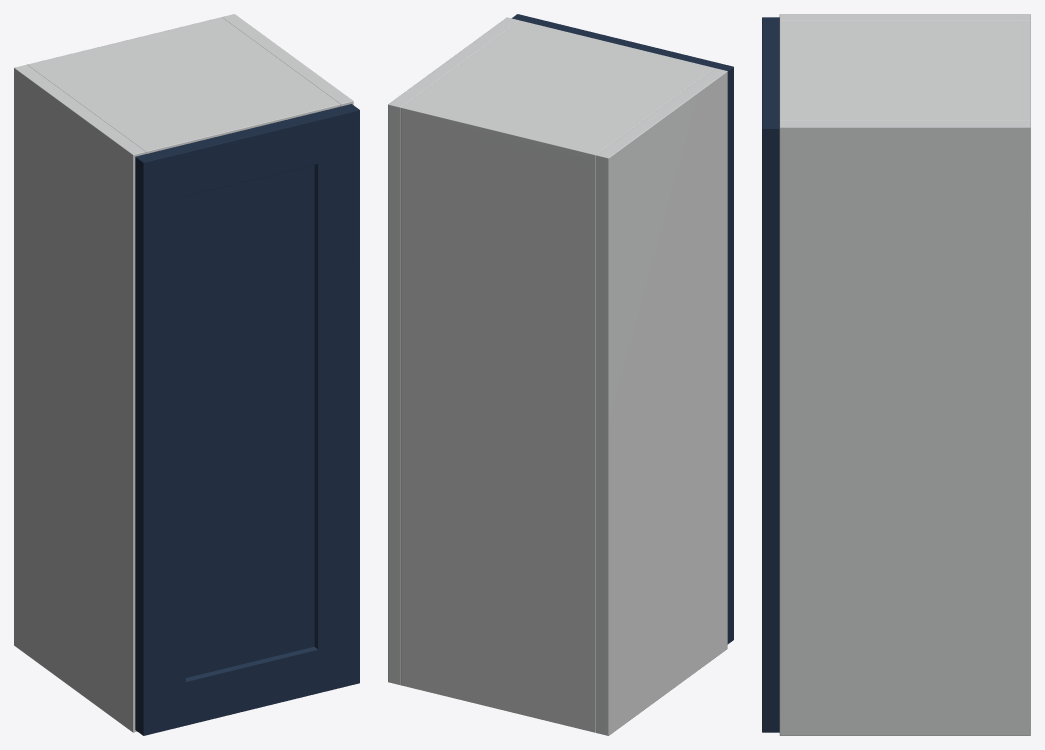
File: oppein-pb-bss-w1230.glb
The picture shows the model from 3 angles, left to right: view 1: azimuth 30°, elevation 25°; view 2: azimuth 150°, elevation 25°; view 3: azimuth 270°, elevation 25°; orthographic projection. The views are drawn at different scales.
Visible parts, largest first — view 1: Door, Cabinet side, Cabinet top, Cabinet side.001, Cabinet back; view 2: Cabinet back, Cabinet side, Cabinet top, Cabinet side.001, Door; view 3: Cabinet side.001, Cabinet top, Door, Cabinet side, Cabinet back.
Boxes of the visible parts, x1,y1,x2,y2 form: Door: (135, 104, 359, 735); Cabinet side: (14, 64, 145, 732); Cabinet top: (27, 17, 340, 153); Cabinet side.001: (222, 14, 353, 106); Cabinet back: (28, 17, 225, 67); Cabinet back: (401, 104, 599, 732); Cabinet side: (596, 68, 727, 735); Cabinet top: (401, 20, 714, 167); Cabinet side.001: (388, 17, 519, 685); Door: (512, 14, 733, 644); Cabinet side.001: (779, 121, 1030, 735); Cabinet top: (779, 20, 1030, 120); Door: (762, 17, 779, 732); Cabinet side: (779, 14, 1030, 20); Cabinet back: (1020, 20, 1030, 120).
Bounding box in the file's own units: 0.3048 × 0.762 × 0.3048.
